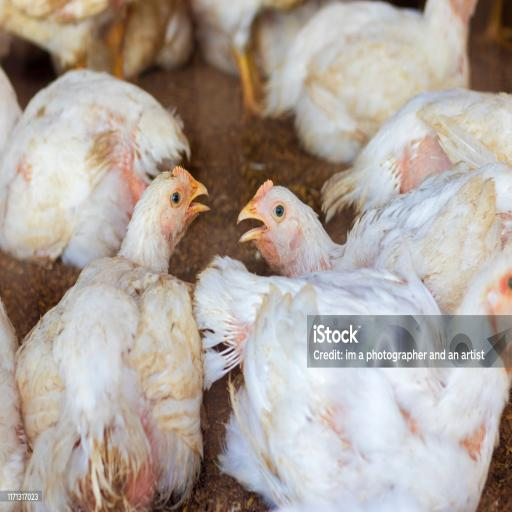healthy: (252, 171, 314, 250), (157, 158, 216, 240)
